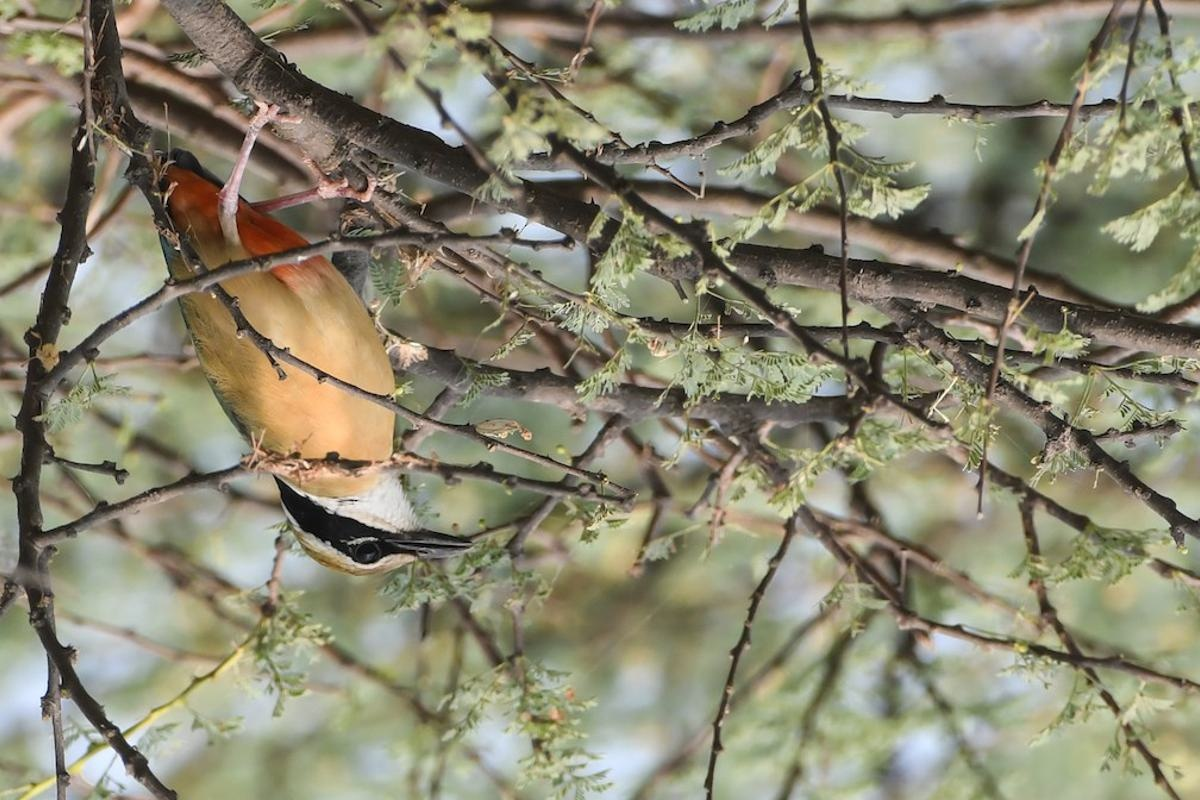pitta: (77, 77, 516, 614)
